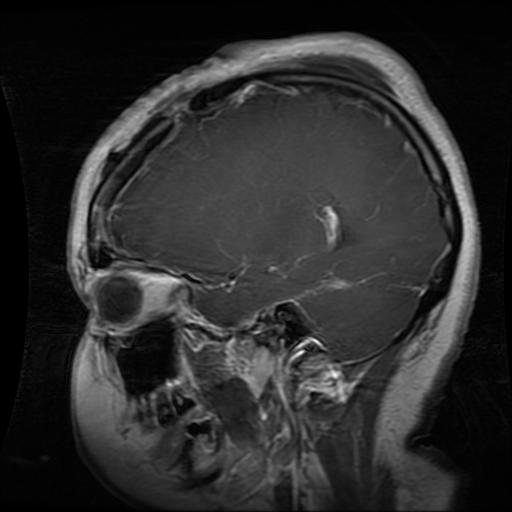Gliomia_tumour: (314, 204, 342, 251)
